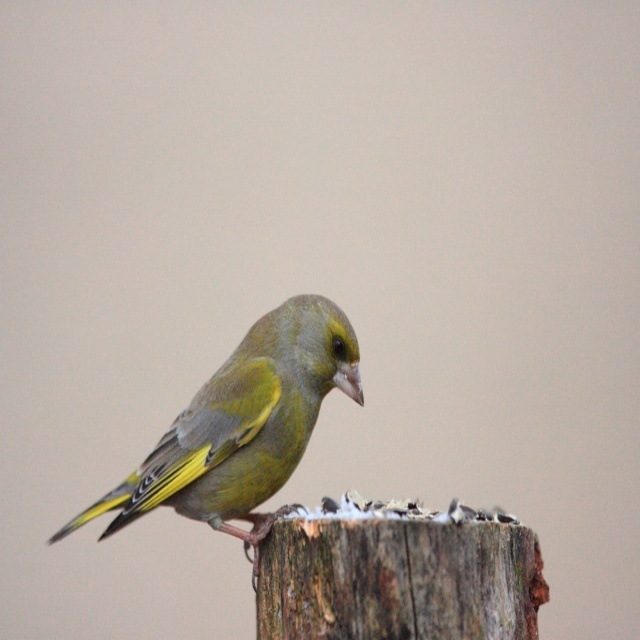Canary: (47, 291, 366, 592)
